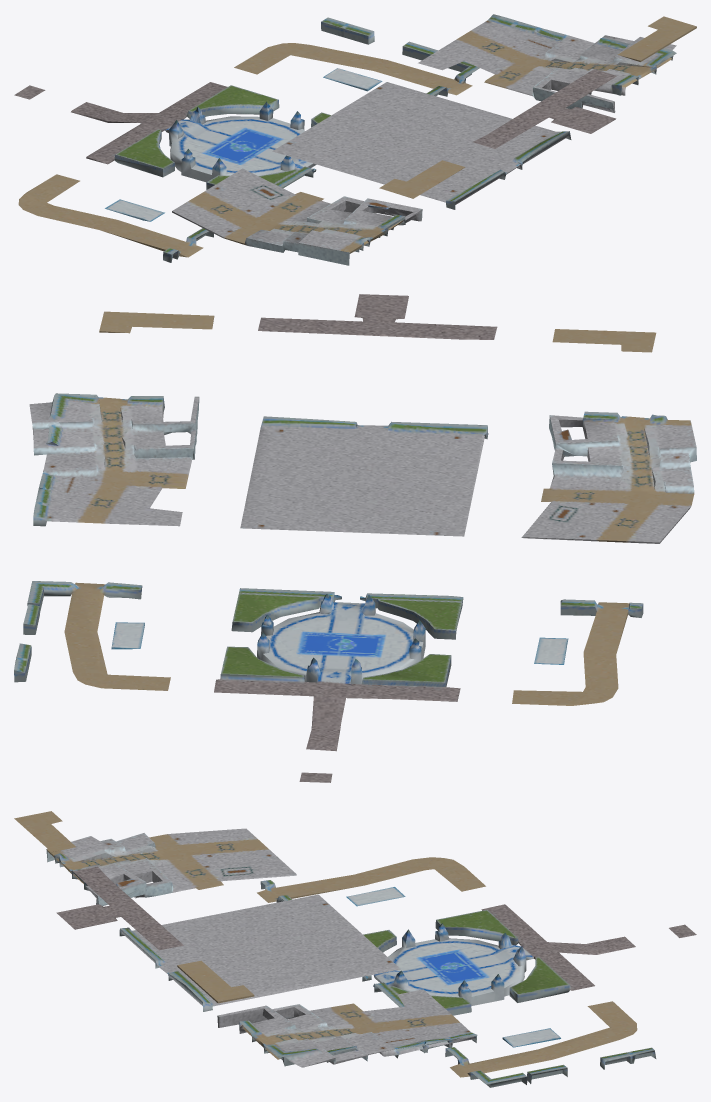
The model's file is clod_town_c02_clod_far001.gltf.
The picture shows the model from 3 angles, top to bottom: view 1: azimuth 30°, elevation 25°; view 2: azimuth 150°, elevation 25°; view 3: azimuth 270°, elevation 25°; orthographic projection. The views are drawn at different scales.
Visible parts, largest first — view 1: clod_town_c02_clod_far001_000_meshShape:remesh_mat; view 2: clod_town_c02_clod_far001_000_meshShape:remesh_mat; view 3: clod_town_c02_clod_far001_000_meshShape:remesh_mat.
Part boxes in pixels (<box>): clod_town_c02_clod_far001_000_meshShape:remesh_mat: <box>14,14,696,265</box>; clod_town_c02_clod_far001_000_meshShape:remesh_mat: <box>14,294,696,782</box>; clod_town_c02_clod_far001_000_meshShape:remesh_mat: <box>14,811,696,1087</box>.
Size of the model in its own units: 226 by 50.62 by 235.
1 material, 1 textured.
